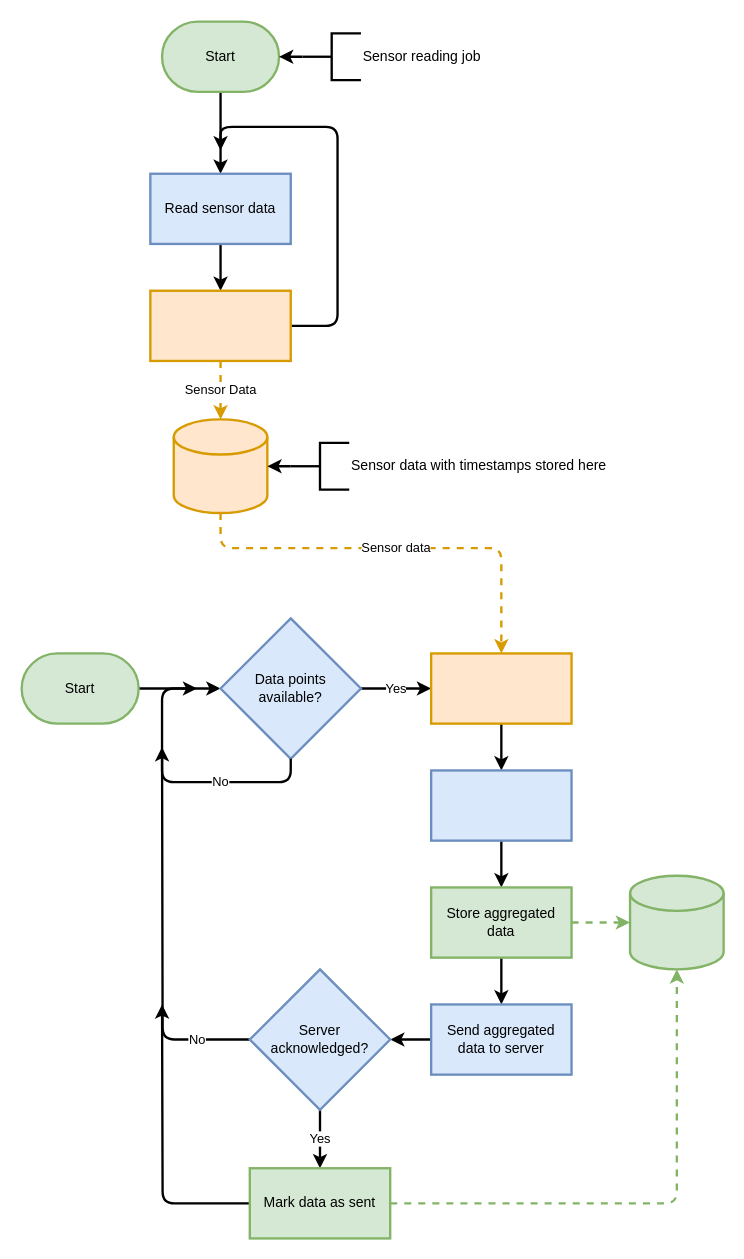
This 744x1259 diagram has some shape labels left out. Each missing label, with the box of its shape:
Aggregate data for storage optimization: (429, 769, 572, 841)
MongoDB: (628, 874, 724, 970)
RabbitMQ: (172, 418, 268, 514)
Store sensor data: (149, 289, 291, 362)
Take data points from queue: (429, 652, 572, 724)
